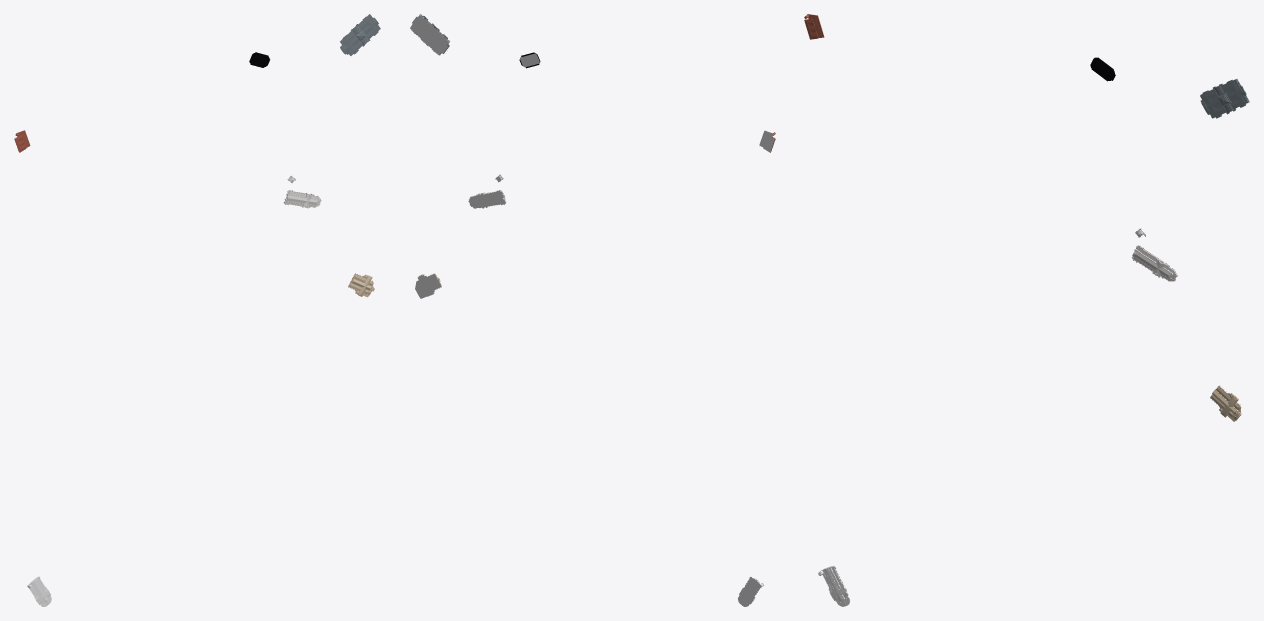
The picture shows the model from 3 angles, left to right: view 1: azimuth 30°, elevation 25°; view 2: azimuth 150°, elevation 25°; view 3: azimuth 330°, elevation 25°; orthographic projection. The views are drawn at different scales.
Bounding box in the file's own units: 4301 × 5766 × 66.62.
